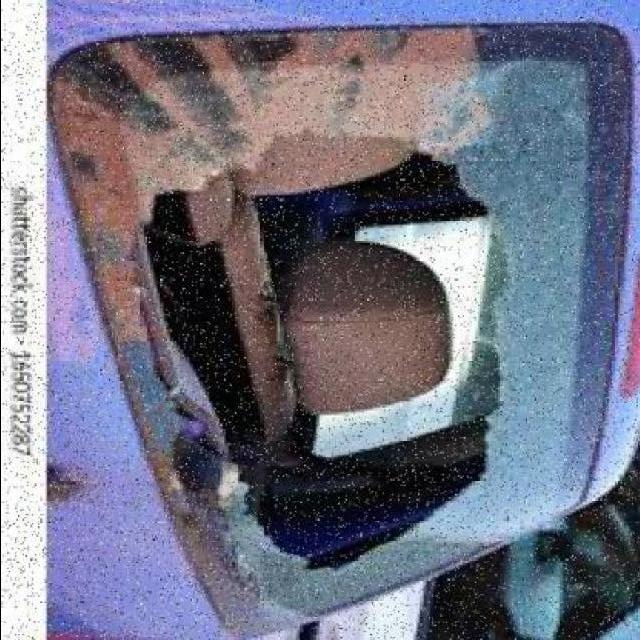Rear-windscreen-Damage: (45, 0, 640, 637)
